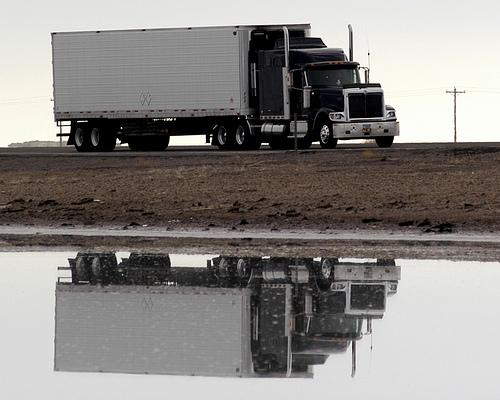truck: (51, 21, 401, 150)
